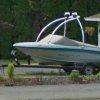Boat: (12, 24, 100, 79)
